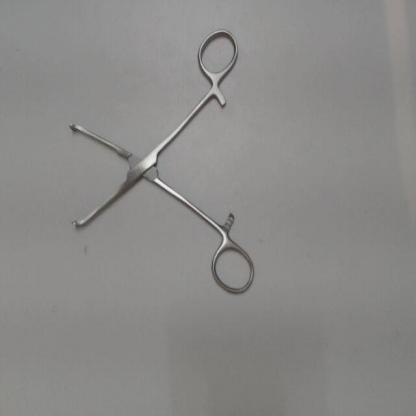Allis Tissue Forceps: (68, 23, 261, 299)
